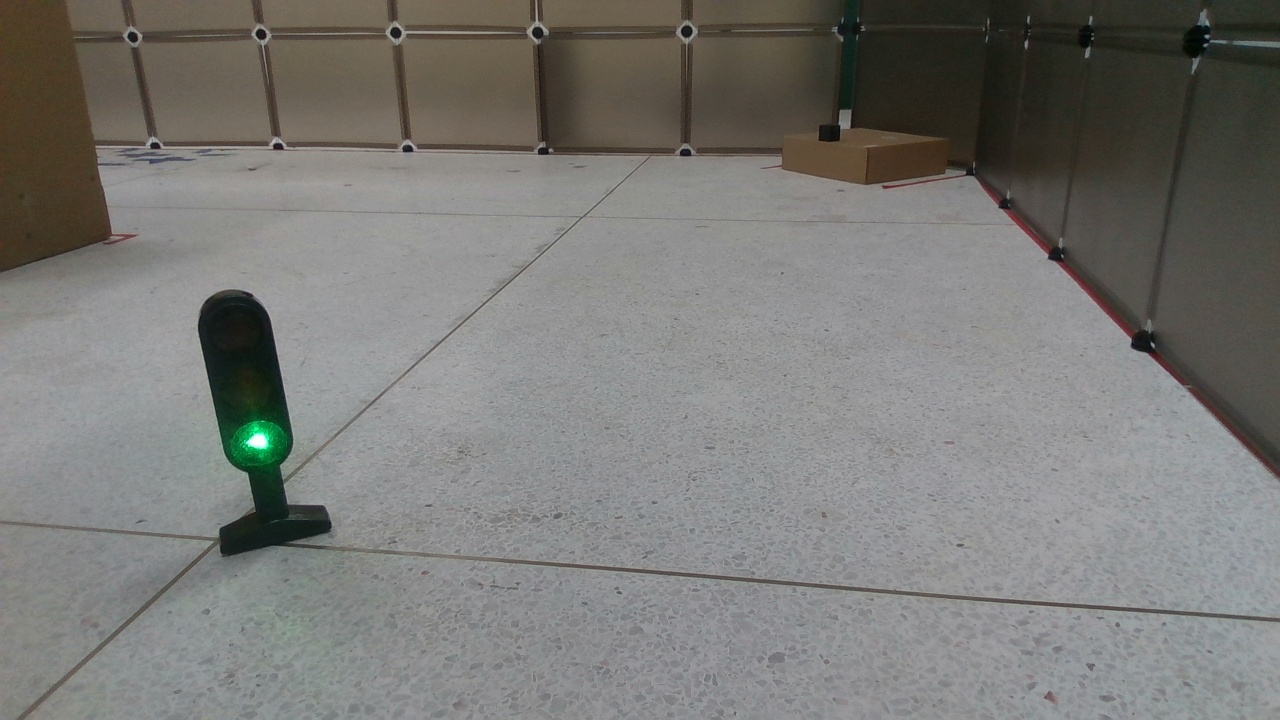Green traffic light: (189, 284, 336, 557)
